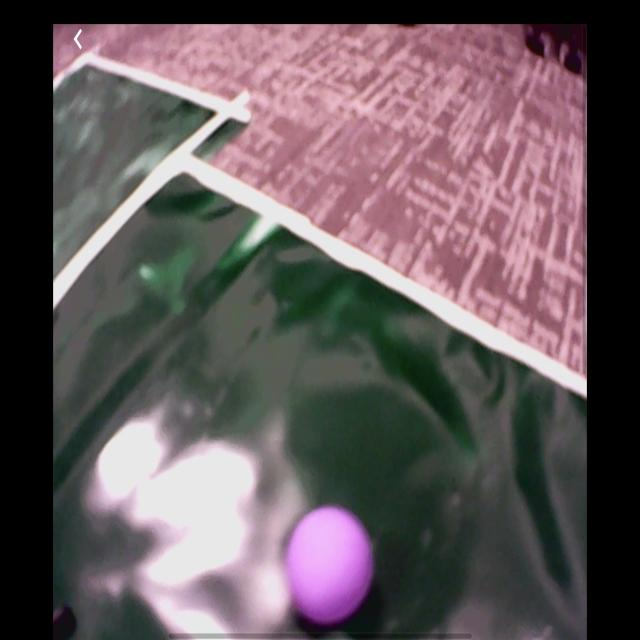ball: (285, 505, 375, 628)
